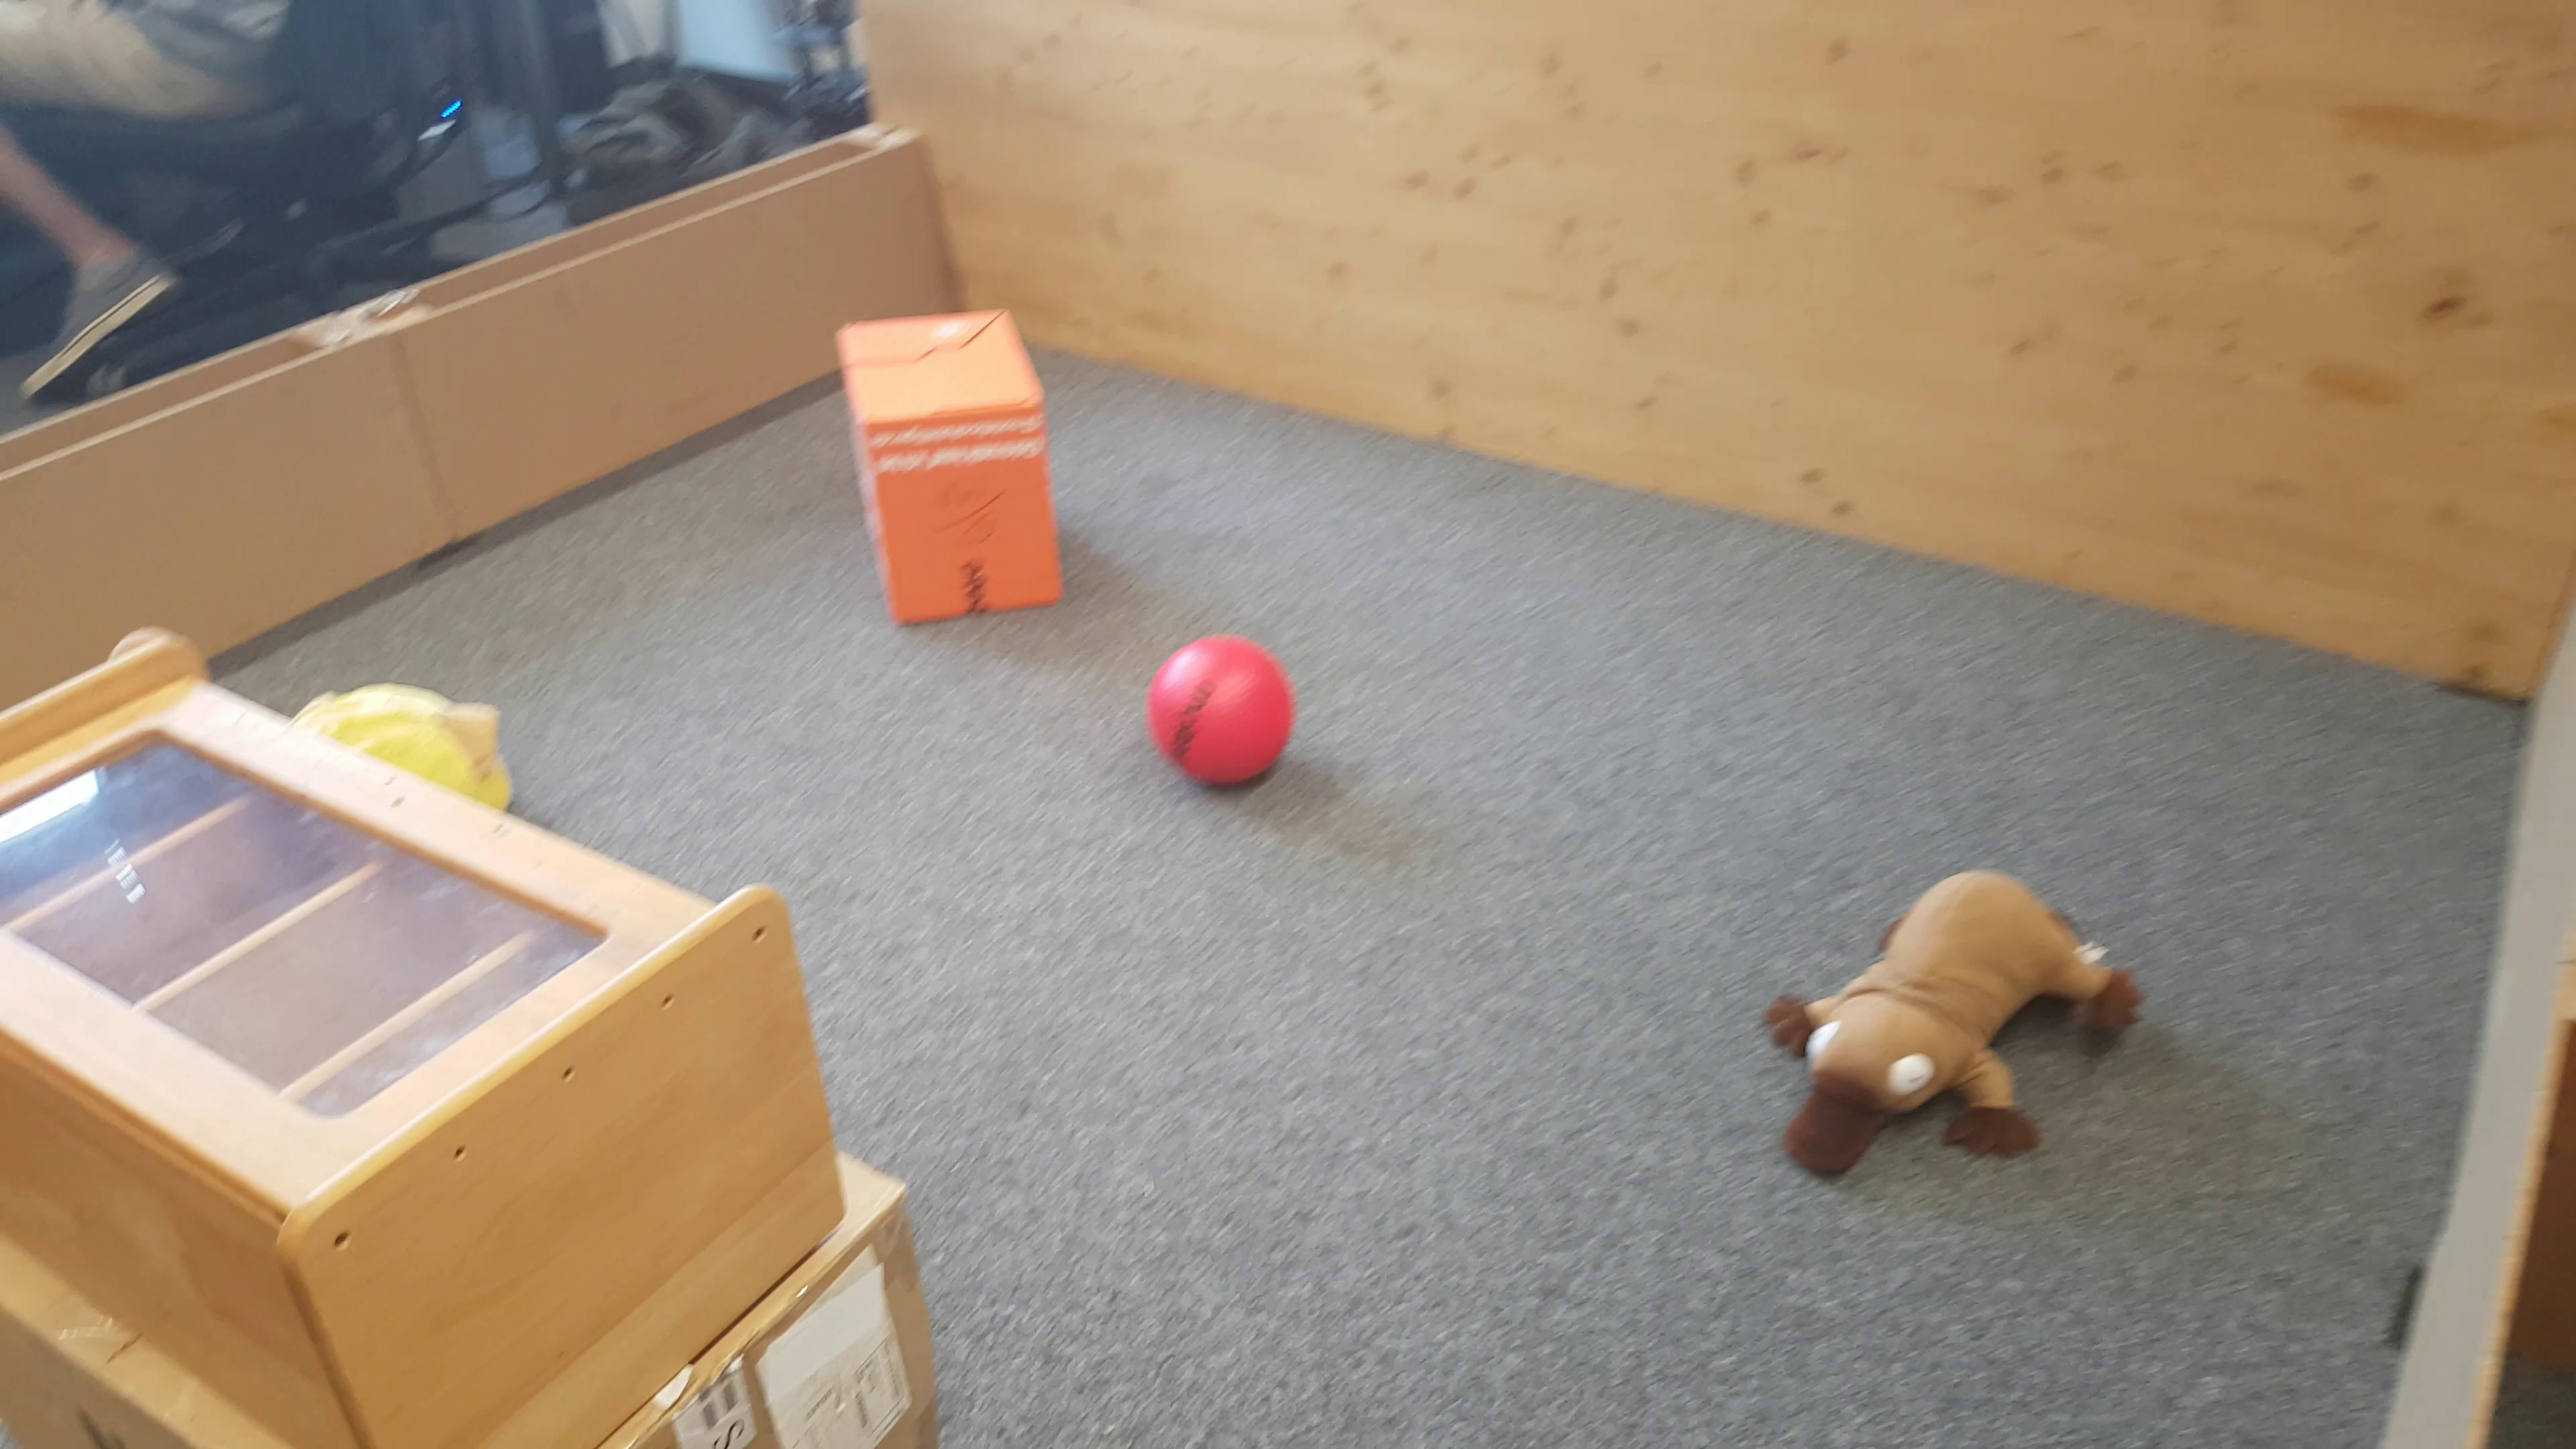grasp: (1759, 867, 2141, 1192)
kick: (1148, 630, 1295, 794)
push: (840, 310, 1065, 628)
